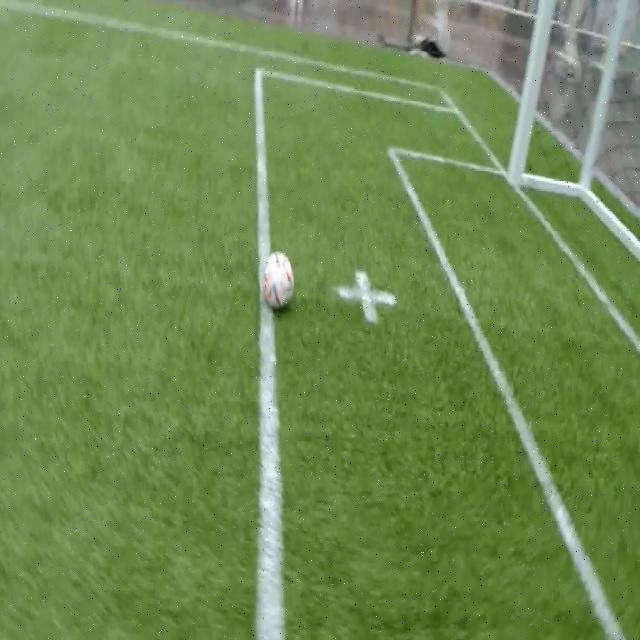ball: (263, 252, 294, 308)
goalpost: (503, 115, 538, 193)
